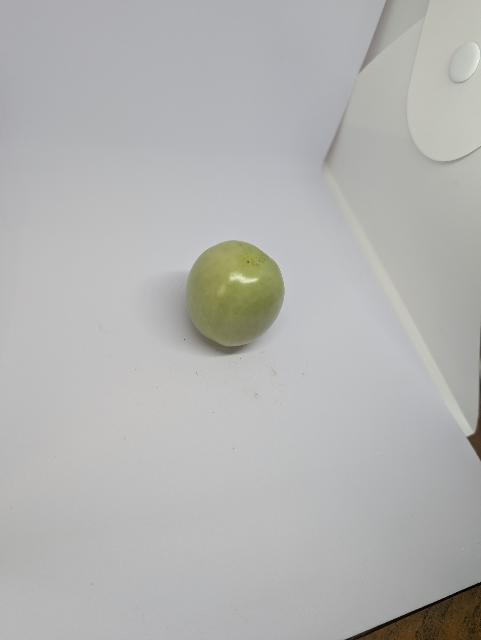green: (183, 226, 293, 371)
